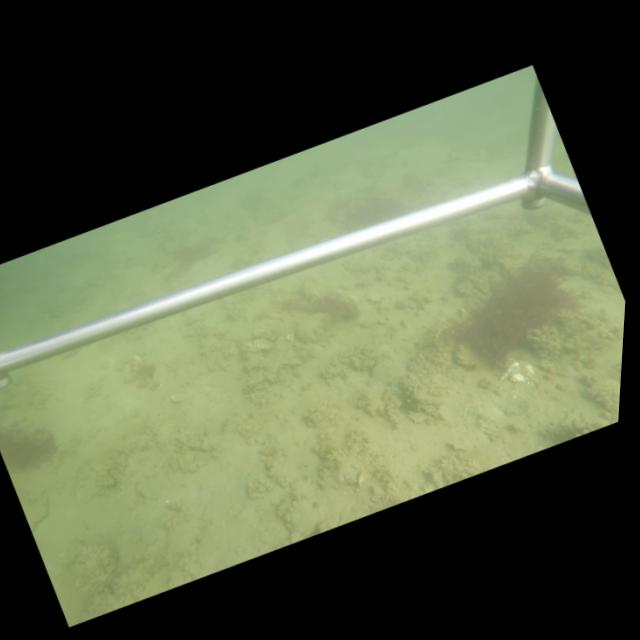Oyster-Closed: (279, 354, 308, 368)
